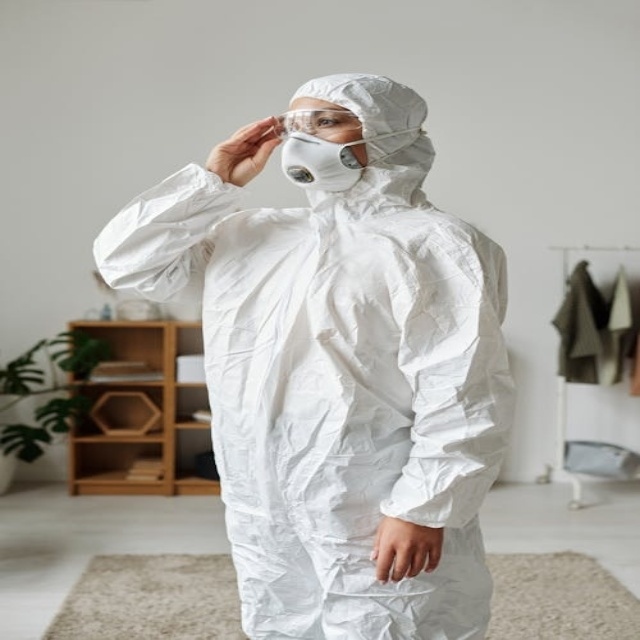Gafas: (273, 113, 420, 152)
Mascara: (281, 132, 368, 192)
Sin_guantes: (195, 108, 285, 188), (369, 516, 444, 583)
